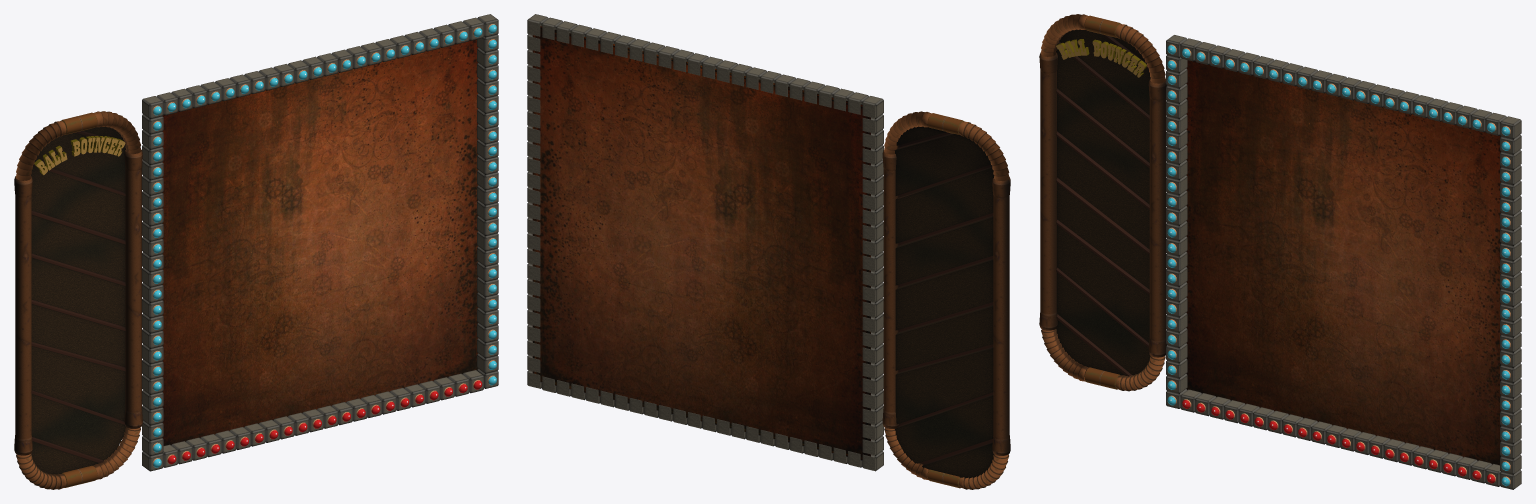
Rendered from background.FBX.
The picture shows the model from 3 angles, left to right: view 1: azimuth 30°, elevation 25°; view 2: azimuth 150°, elevation 25°; view 3: azimuth 330°, elevation 25°; orthographic projection.
Parts seen in each view (by area): view 1: background, toolboxBack, toolboxSide001, toolboxSide, Title, toolboxBend004, toolboxBend001, toolboxBend, toolboxBend002, toolboxTop, toolboxTop001; view 2: background, toolboxBack, toolboxSide001, toolboxSide, toolboxBend004, toolboxBend, toolboxBend002, toolboxBend001, toolboxTop; view 3: background, toolboxBack, toolboxSide, toolboxSide001, Title, toolboxBend, toolboxBend002, toolboxBend004, toolboxBend001, toolboxTop, toolboxTop001.
Part boxes in pixels (x1,y1,x2,y2): background: (162,39,477,445); toolboxBack: (31,126,125,474); toolboxSide001: (14,176,32,455); toolboxSide: (124,150,142,428); Title: (34,136,125,175); toolboxBend004: (15,121,66,180); toolboxBend001: (93,427,140,479); toolboxBend: (93,111,141,153); toolboxBend002: (16,453,66,489); toolboxTop: (61,112,97,134); toolboxTop001: (61,465,97,487); background: (532,26,870,460); toolboxBack: (894,124,994,478); toolboxSide001: (992,177,1010,455); toolboxSide: (882,150,898,428); toolboxBend004: (958,121,1009,180); toolboxBend: (884,111,931,154); toolboxBend002: (959,454,1008,489); toolboxBend001: (884,427,928,479); toolboxTop: (927,113,964,134); background: (1186,60,1500,465); toolboxBack: (1056,29,1150,376); toolboxSide: (1148,79,1166,357); toolboxSide001: (1039,52,1057,330); Title: (1056,39,1146,77); toolboxBend: (1115,24,1165,83); toolboxBend002: (1041,329,1088,381); toolboxBend004: (1040,14,1088,56); toolboxBend001: (1115,355,1165,391); toolboxTop: (1084,15,1120,37); toolboxTop001: (1084,367,1120,389).
Size of the model in its own units: 1294 by 950 by 54.98.
